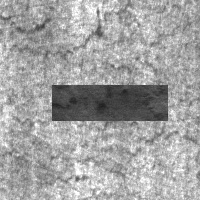crazing: (1, 82, 199, 157), (108, 1, 191, 78), (1, 6, 104, 59)
rolled-in_scale: (52, 85, 168, 121)
